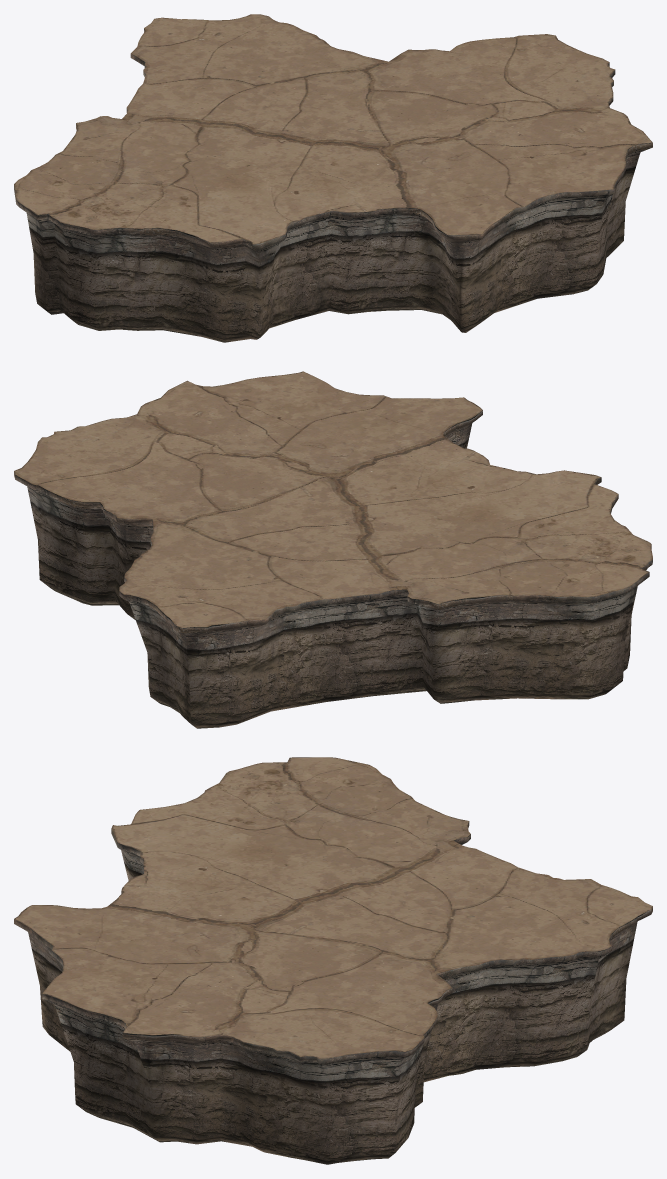
The model's file is caves_saltmine_ground_edge_01.dae.
The picture shows the model from 3 angles, top to bottom: view 1: azimuth 30°, elevation 25°; view 2: azimuth 150°, elevation 25°; view 3: azimuth 270°, elevation 25°; orthographic projection. The views are drawn at different scales.
Visible parts, largest first — view 1: piece_01, sidewall; view 2: piece_01, sidewall; view 3: piece_01, sidewall.
Part boxes in pixels (box(x1,y1,x2,y2)): piece_01: box(14, 14, 652, 244); sidewall: box(14, 29, 652, 342); piece_01: box(14, 371, 652, 628); sidewall: box(14, 410, 652, 728); piece_01: box(14, 757, 652, 1058); sidewall: box(14, 821, 652, 1164).
Size of the model in its own units: 4.18 by 0.7837 by 3.74.
